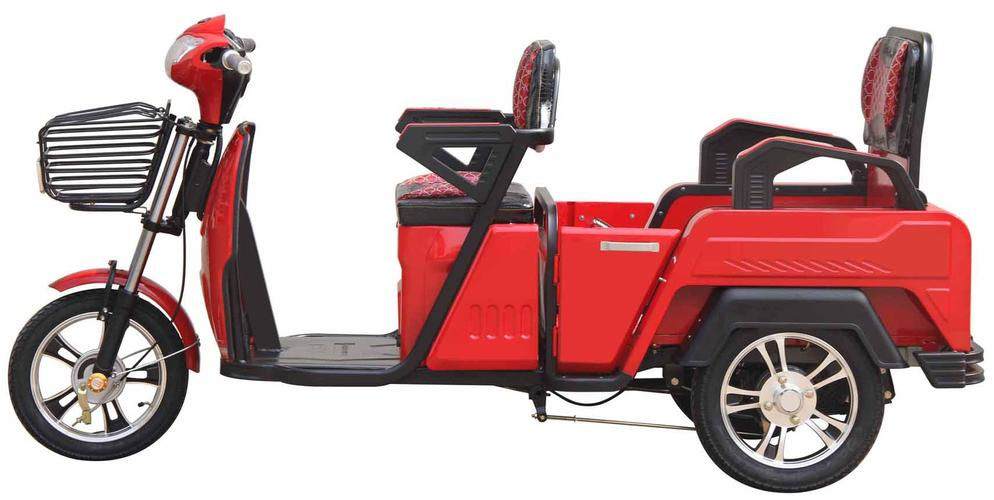empty: (23, 24, 977, 494)
